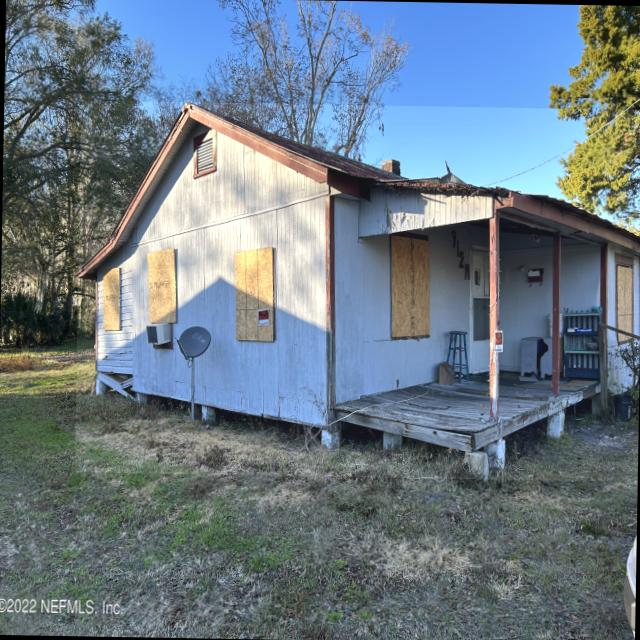House: (74, 99, 640, 481)
